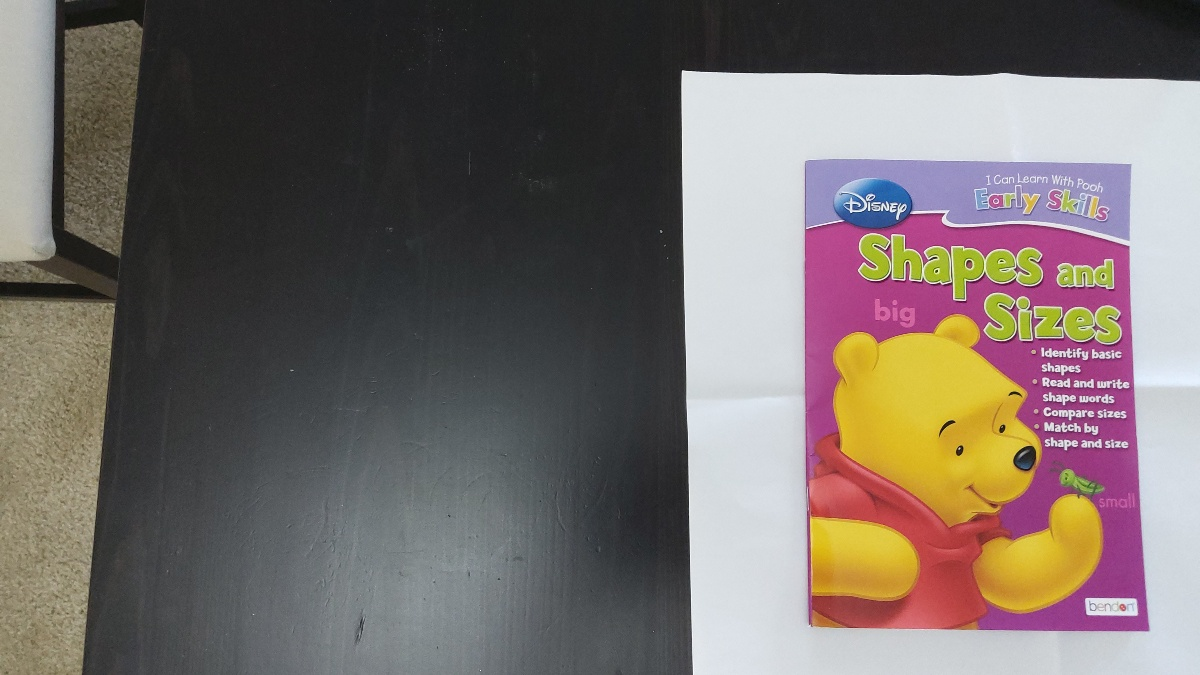book: (805, 162, 1154, 635)
